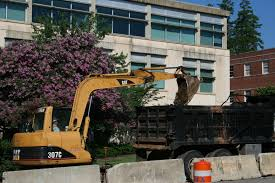excavator: (12, 67, 203, 169)
